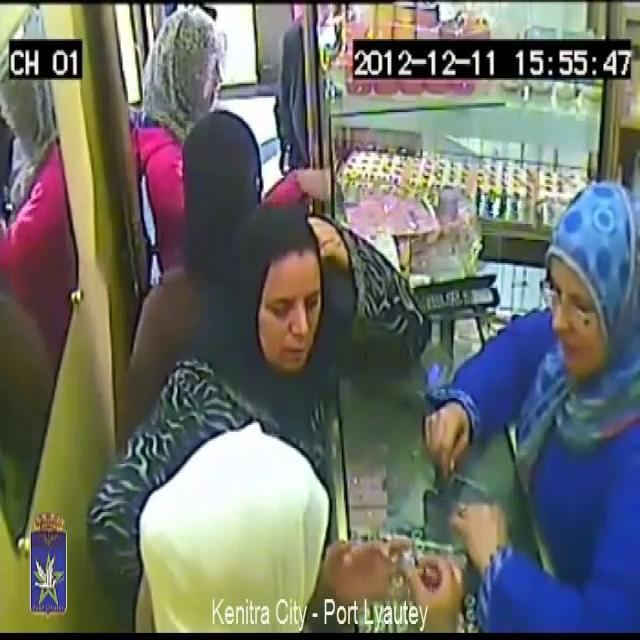Product: (399, 532, 423, 570)
normal: (464, 151, 640, 640), (152, 0, 355, 202), (226, 190, 350, 396), (158, 77, 252, 267)
shoplifting: (134, 410, 462, 640)
